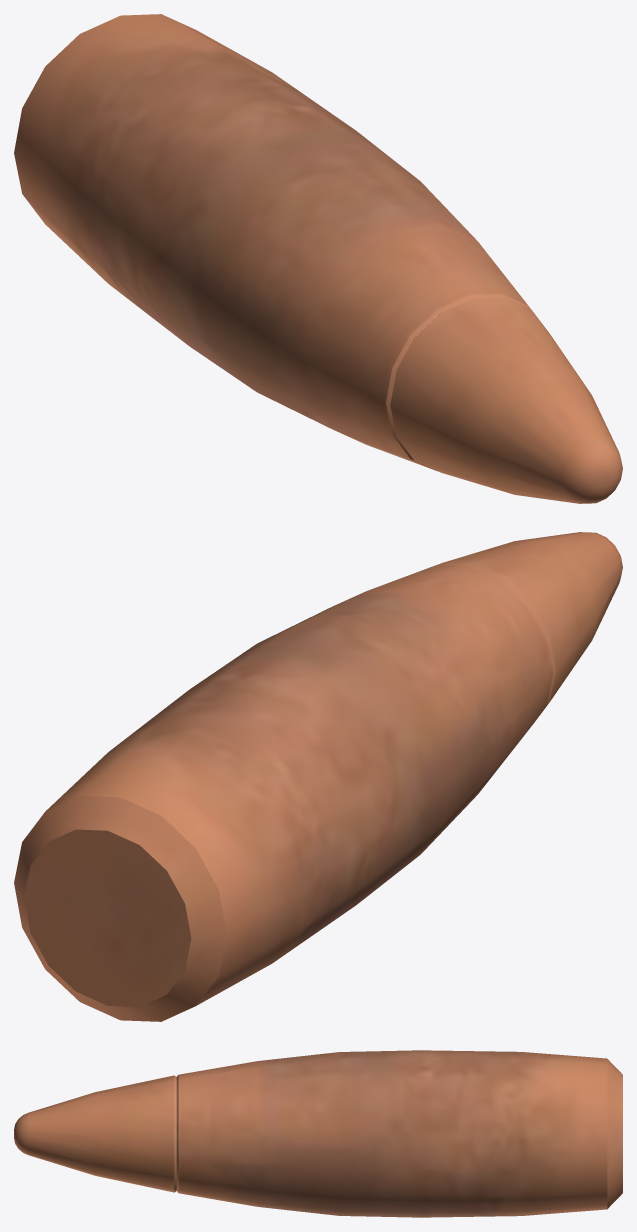
File: bullet.glb
The picture shows the model from 3 angles, top to bottom: view 1: azimuth 30°, elevation 25°; view 2: azimuth 150°, elevation 25°; view 3: azimuth 270°, elevation 25°; orthographic projection. The views are drawn at different scales.
Parts seen in each view (by area): view 1: bullet; view 2: bullet; view 3: bullet.
Part boxes in pixels (left/top/right/bottom): bullet: left=14, top=14, right=622, bottom=503; bullet: left=14, top=532, right=622, bottom=1021; bullet: left=14, top=1050, right=622, bottom=1217.
Bounding box in the file's own units: 0.0528 × 0.0528 × 0.192.
Materials: 1 (1 with a texture image).
